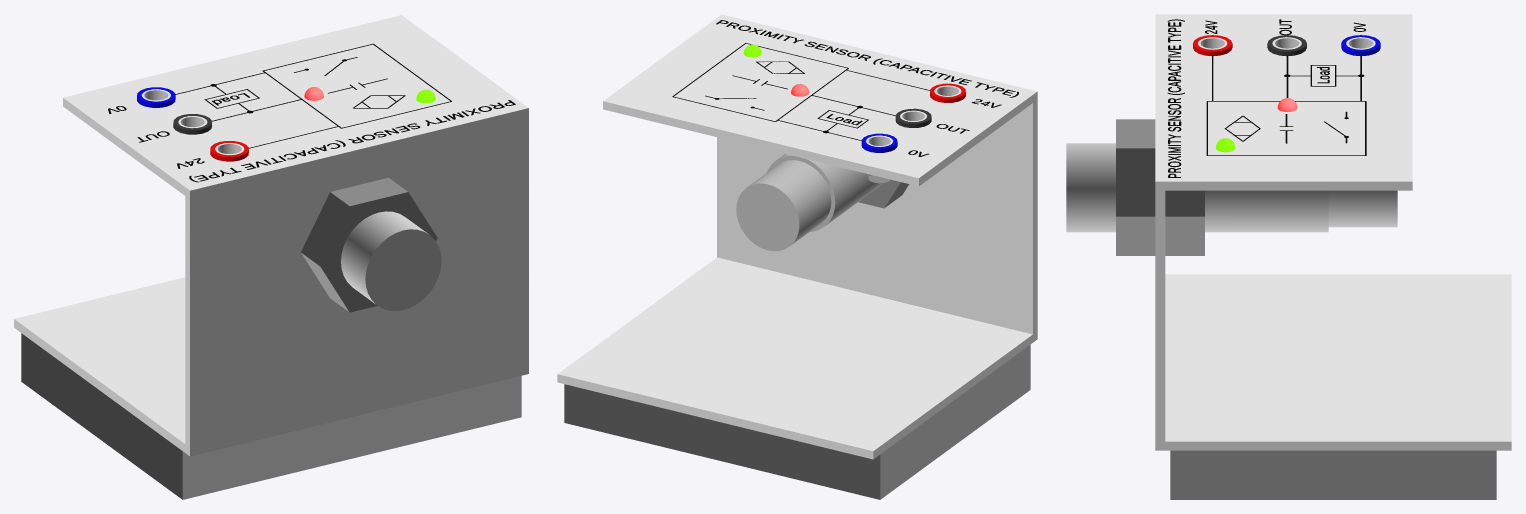
The model's file is capacitive-sensor-pnp.glb.
3 views of the same model, side by side, from view 1: azimuth 30°, elevation 25°; view 2: azimuth 150°, elevation 25°; view 3: azimuth 270°, elevation 25° (orthographic). The views are drawn at different scales.
Visible parts, largest first — view 1: Base__go861__mesh5, Base__go861__mesh0, Base__go861__mesh1, Base__go861__mesh3, Sticker__go865__mesh0, Base__go861__mesh6, Base__go861__mesh7, Base__go861__mesh2; view 2: Base__go861__mesh5, Base__go861__mesh0, Base__go861__mesh1, Sticker__go865__mesh0, Base__go861__mesh3, Base__go861__mesh7, Base__go861__mesh6, Base__go861__mesh2; view 3: Base__go861__mesh5, Base__go861__mesh0, Base__go861__mesh1, Base__go861__mesh3, Sticker__go865__mesh0, Base__go861__mesh7, Base__go861__mesh6, Base__go861__mesh2.
Boxes of the visible parts, left/top/right/bottom form: Base__go861__mesh5: left=14, top=15, right=528, bottom=456; Base__go861__mesh0: left=21, top=333, right=521, bottom=499; Base__go861__mesh1: left=341, top=211, right=441, bottom=310; Base__go861__mesh3: left=301, top=177, right=437, bottom=312; Sticker__go865__mesh0: left=108, top=43, right=515, bottom=182; Base__go861__mesh6: left=210, top=141, right=248, bottom=161; Base__go861__mesh7: left=137, top=87, right=175, bottom=107; Base__go861__mesh2: left=173, top=114, right=211, bottom=134; Base__go861__mesh5: left=557, top=14, right=1037, bottom=459; Base__go861__mesh0: left=564, top=344, right=1030, bottom=499; Base__go861__mesh1: left=736, top=154, right=882, bottom=251; Sticker__go865__mesh0: left=672, top=20, right=1018, bottom=156; Base__go861__mesh3: left=858, top=179, right=909, bottom=208; Base__go861__mesh7: left=861, top=133, right=897, bottom=183; Base__go861__mesh6: left=930, top=83, right=965, bottom=102; Base__go861__mesh2: left=895, top=108, right=931, bottom=127; Base__go861__mesh5: left=1155, top=14, right=1511, bottom=450; Base__go861__mesh0: left=1170, top=450, right=1496, bottom=499; Base__go861__mesh1: left=1066, top=143, right=1397, bottom=232; Base__go861__mesh3: left=1116, top=119, right=1204, bottom=255; Sticker__go865__mesh0: left=1167, top=19, right=1366, bottom=177; Base__go861__mesh7: left=1341, top=35, right=1380, bottom=55; Base__go861__mesh6: left=1193, top=35, right=1232, bottom=56; Base__go861__mesh2: left=1267, top=35, right=1306, bottom=56.
Bounding box in the file's own units: 0.08 × 0.073 × 0.09.
11 materials, 5 textured.
